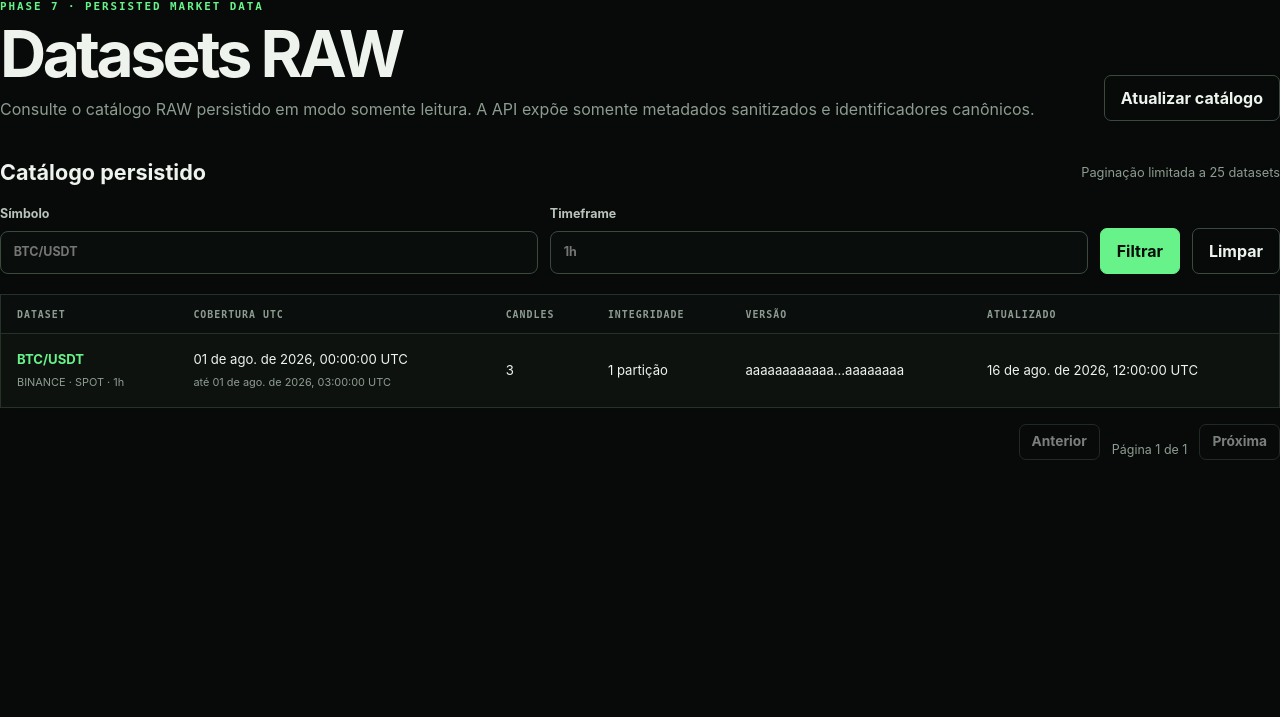
Test: RawDatasetsPage › consulta o detalhe pelo dataset_id fornecido pelo backend
Click the button with aria-label "Inspecionar dataset BTC/USDT 1h": (50, 360) [17,350,84,370]
(page scrolled)
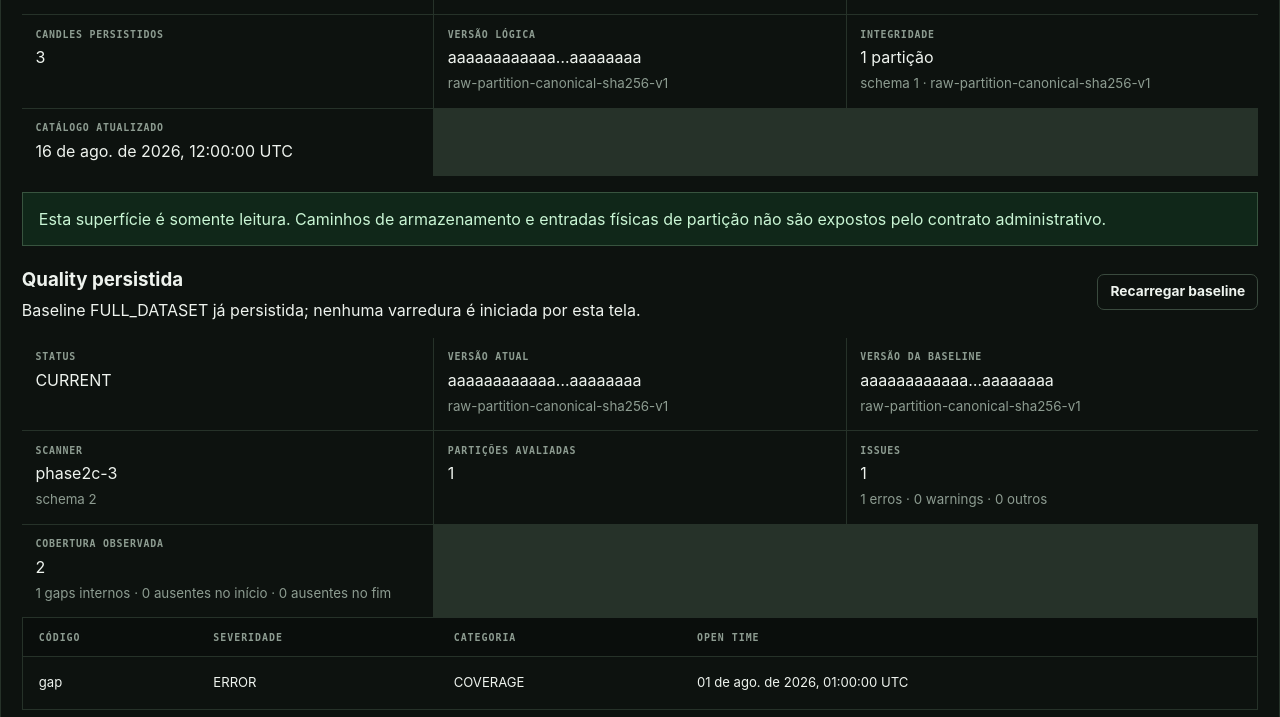
Now the text "3" is shown, box [35,47,45,67]
Now the element "Detalhe do dataset" shows "raw-partition-canonical-sha256-v1", box [448,75,668,91]
